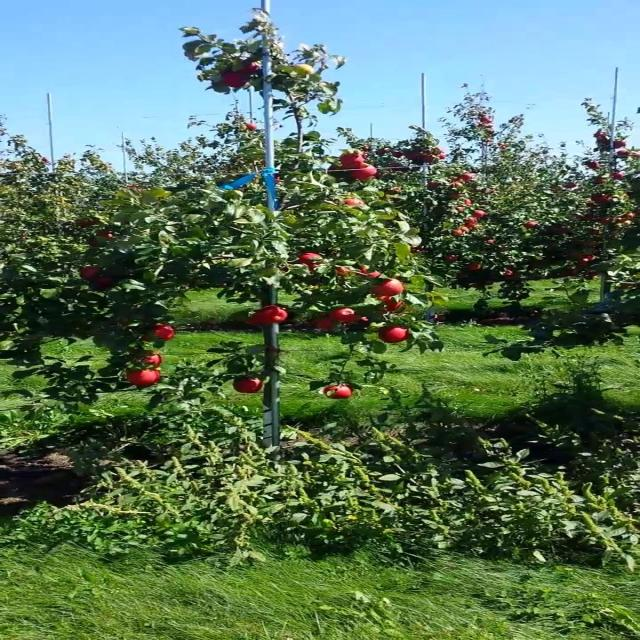apple: (255, 308, 292, 324), (127, 372, 162, 388), (141, 328, 178, 343), (383, 328, 412, 344), (376, 280, 405, 296), (376, 296, 404, 312), (234, 380, 263, 395), (333, 308, 359, 324), (326, 388, 356, 400), (355, 164, 377, 180), (220, 76, 249, 88), (340, 156, 364, 168), (298, 256, 320, 269), (141, 356, 164, 368), (241, 64, 263, 76), (362, 268, 382, 279), (84, 268, 100, 280), (248, 316, 263, 328), (319, 320, 334, 331), (99, 280, 114, 288), (348, 200, 363, 207), (300, 68, 313, 75), (340, 268, 350, 276)
